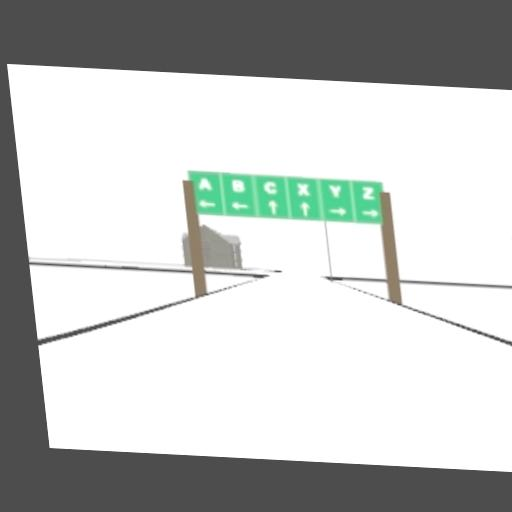A: (197, 176, 212, 191)
B: (231, 178, 246, 194)
C: (263, 181, 278, 195)
Left: (198, 198, 217, 209), (231, 201, 249, 212)
Right: (360, 209, 379, 219), (330, 206, 348, 216)
Straight: (266, 199, 279, 217), (300, 201, 312, 218)
X: (296, 182, 311, 197)
Y: (328, 185, 343, 198)
Z: (361, 185, 376, 201)
